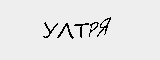Л: (58, 21, 77, 41)
Р: (86, 18, 98, 40)
Т: (74, 19, 90, 40)
У: (41, 21, 58, 39)
Я: (95, 15, 113, 38)
